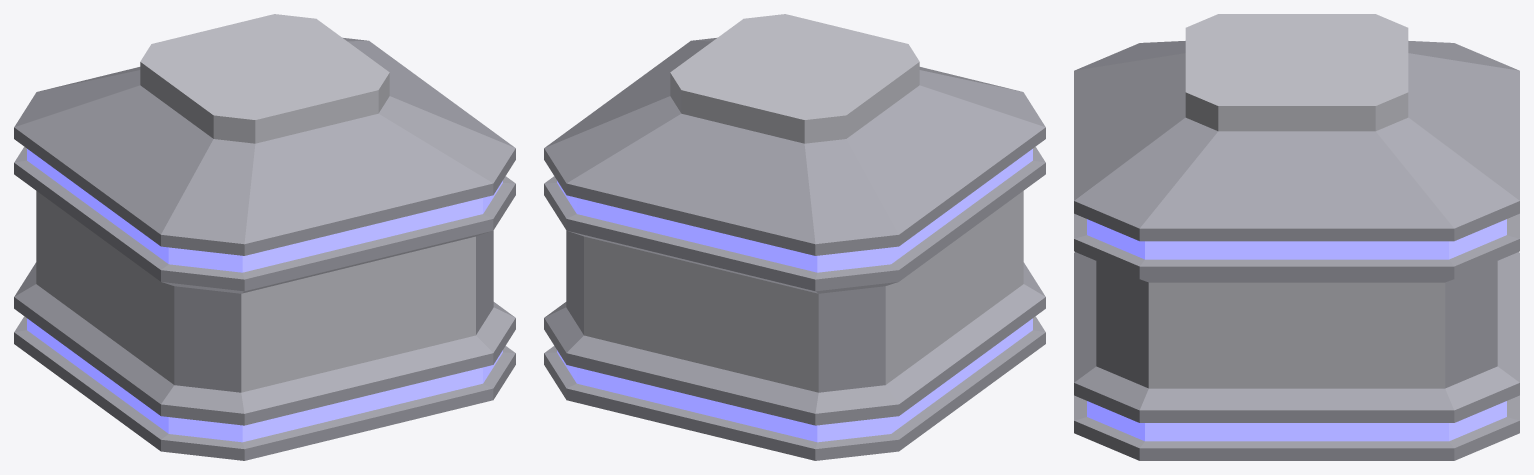
File: TowerGimbal.glb
3 renders of one model, left to right at view 1: azimuth 30°, elevation 25°; view 2: azimuth 150°, elevation 25°; view 3: azimuth 270°, elevation 25°, orthographic. The views are drawn at different scales.
Parts seen in each view (by area): view 1: TowerGimbal; view 2: TowerGimbal; view 3: TowerGimbal.
Boxes of the visible parts, x1,y1,x2,y2 form: TowerGimbal: [14, 14, 515, 460]; TowerGimbal: [544, 14, 1045, 460]; TowerGimbal: [1074, 14, 1519, 460].
Bounding box in the file's own units: 0.7883 × 0.61 × 0.8.
